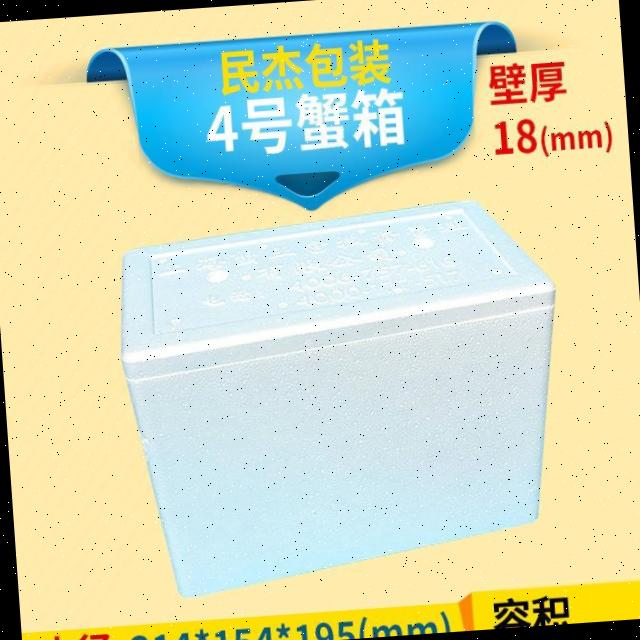styrofoam: (110, 192, 576, 600)
